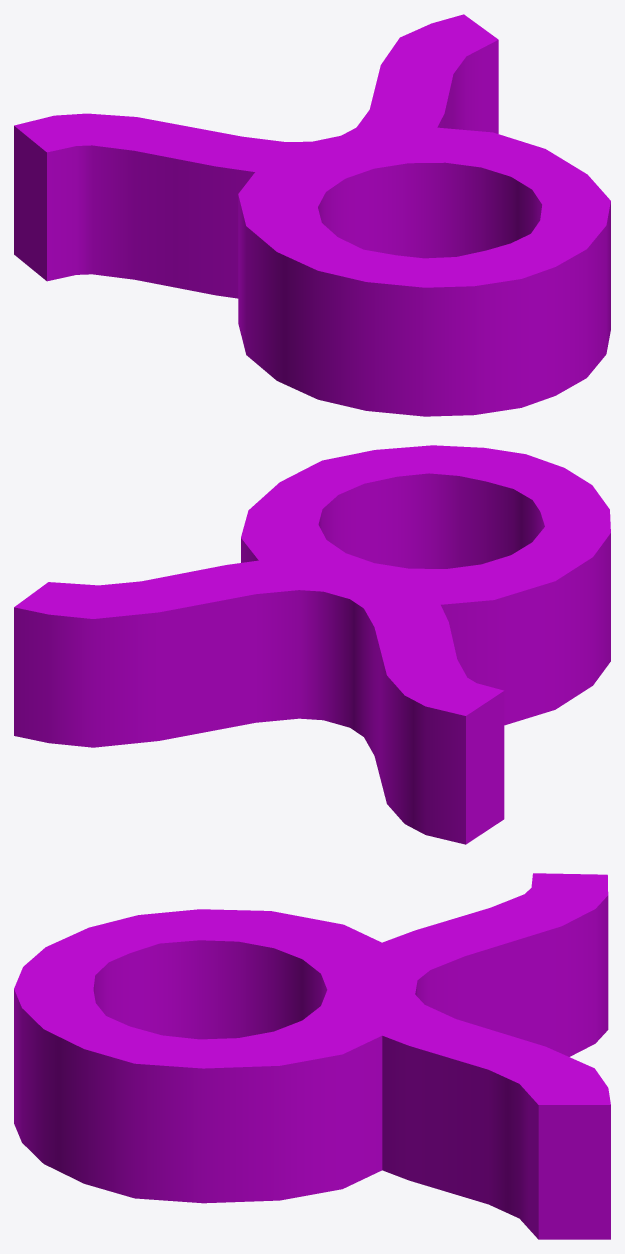
File: taurus.fbx
3 renders of one model, top to bottom at view 1: azimuth 30°, elevation 25°; view 2: azimuth 150°, elevation 25°; view 3: azimuth 270°, elevation 25°, orthographic. The views are drawn at different scales.
Parts seen in each view (by area): view 1: 2.TAURUS; view 2: 2.TAURUS; view 3: 2.TAURUS.
Boxes of the visible parts, bbox=[...] form: 2.TAURUS: bbox=[14, 14, 610, 416]; 2.TAURUS: bbox=[14, 445, 610, 844]; 2.TAURUS: bbox=[14, 873, 610, 1239].
Size of the model in its own units: 132 by 35.71 by 143.
